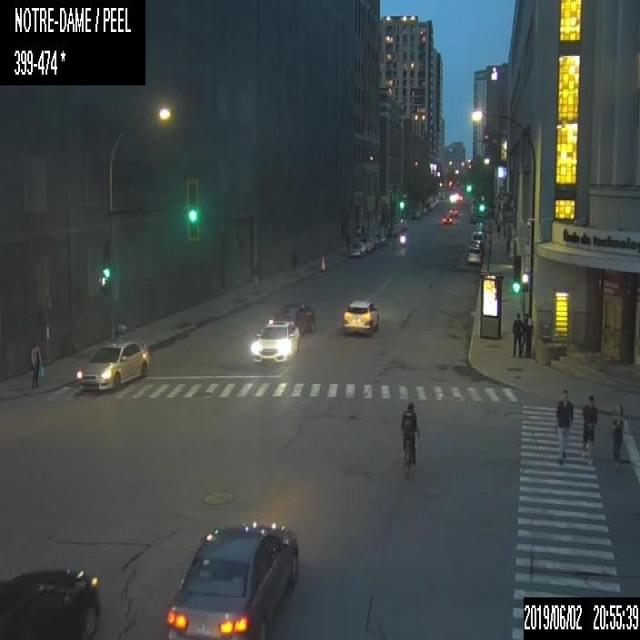construction: (320, 254, 325, 271)
cyclist: (399, 400, 418, 477)
pedestrian: (556, 387, 572, 462), (582, 393, 596, 459), (610, 404, 623, 457), (28, 339, 42, 385), (511, 311, 524, 356), (520, 312, 527, 352)
vehicle: (163, 520, 299, 639), (0, 566, 102, 638), (75, 339, 148, 389), (248, 318, 299, 360), (341, 296, 377, 334), (278, 300, 314, 332), (465, 246, 481, 264), (290, 244, 298, 276), (468, 230, 484, 243), (398, 222, 407, 245), (347, 245, 360, 258), (472, 221, 484, 232), (469, 239, 481, 250), (356, 241, 366, 254), (441, 212, 452, 223), (364, 237, 374, 248), (370, 234, 378, 246), (410, 208, 419, 218), (450, 206, 458, 216), (363, 242, 371, 252)
